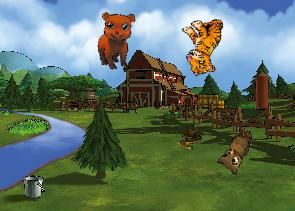bear: (94, 9, 141, 71)
owl: (214, 124, 253, 176)
tiger: (176, 13, 234, 77)
